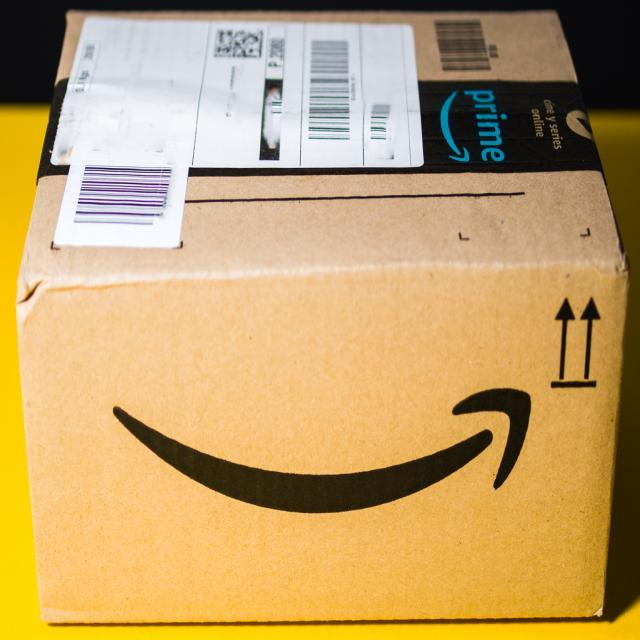Cardboard Box: (15, 6, 635, 625)
